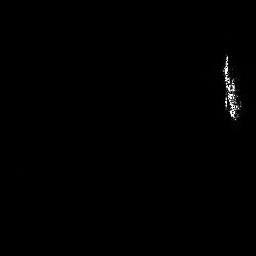ship: (223, 51, 243, 125)
